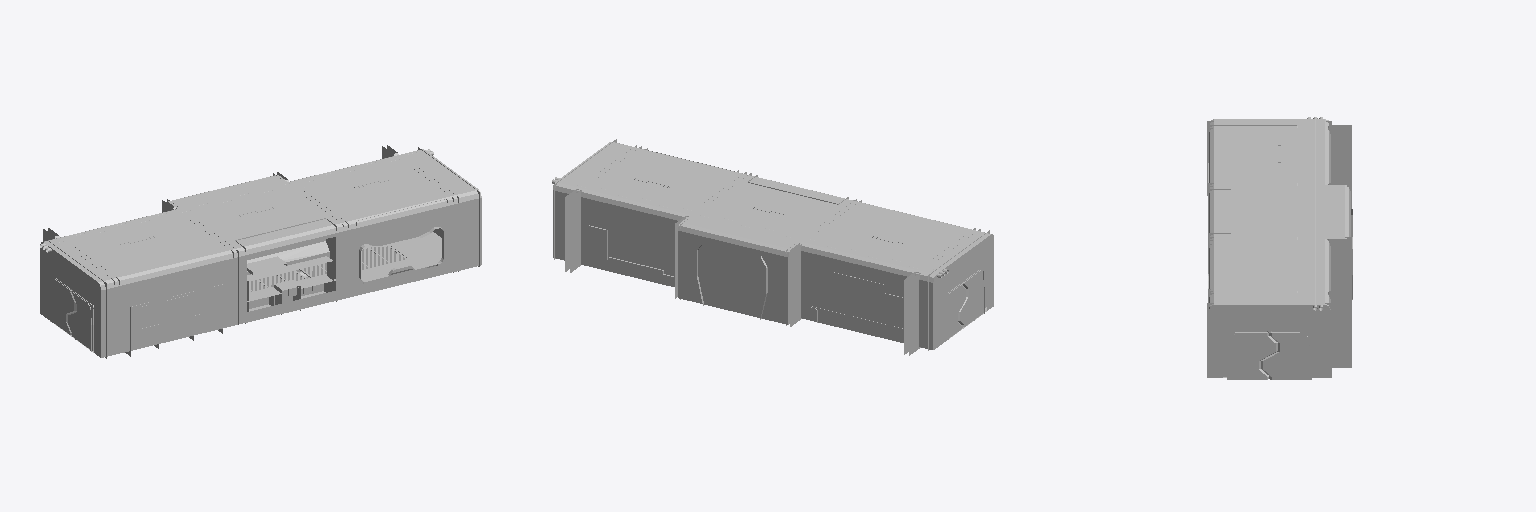
File: hallway v1.obj
The picture shows the model from 3 angles: view 1: azimuth 30°, elevation 25°; view 2: azimuth 150°, elevation 25°; view 3: azimuth 270°, elevation 25°; orthographic projection.
Visible parts, largest first — view 1: pCube2, polySurface143, pCube13, pCube95, pCube98, pCube99, pCube94; view 2: pCube2, polySurface90, polySurface88, pCube98, polySurface87, pCube99; view 3: pCube2, pCube96, pCube36, polySurface90, polySurface88, polySurface89.
Boxes of the visible parts, <box> form: pCube2: <box>40,149,481,357</box>; polySurface143: <box>235,218,336,323</box>; pCube13: <box>356,199,447,284</box>; pCube95: <box>299,246,407,277</box>; pCube98: <box>68,290,93,350</box>; pCube99: <box>55,278,76,334</box>; pCube94: <box>249,270,306,292</box>; pCube2: <box>553,142,993,349</box>; polySurface90: <box>565,145,641,272</box>; polySurface88: <box>904,228,980,355</box>; pCube98: <box>958,267,984,327</box>; polySurface87: <box>786,199,861,326</box>; pCube99: <box>948,283,965,339</box>; pCube2: <box>1209,119,1350,377</box>; pCube96: <box>1227,331,1277,379</box>; pCube36: <box>1261,331,1311,379</box>; polySurface90: <box>1208,291,1351,367</box>; polySurface88: <box>1208,125,1351,182</box>; polySurface89: <box>1208,237,1351,290</box>.
Bounding box in the file's own units: 105 × 23.24 × 34.33.